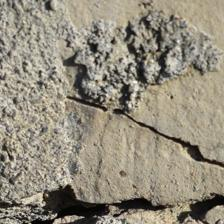Crack: (67, 91, 222, 168), (18, 183, 224, 223)
